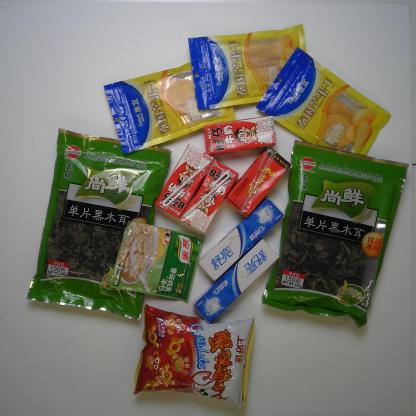Dried Food: (25, 126, 173, 322), (260, 139, 410, 329)
Dried Fruit: (255, 46, 393, 157), (102, 59, 236, 156), (186, 23, 308, 112)
Drink: (224, 146, 292, 218)
Milk: (154, 143, 215, 219), (179, 159, 239, 234), (202, 115, 277, 156)
Personal Hygiene: (197, 196, 286, 283), (192, 238, 280, 324)
Puffed Food: (132, 302, 256, 414)
Seasoner: (109, 220, 206, 304)
